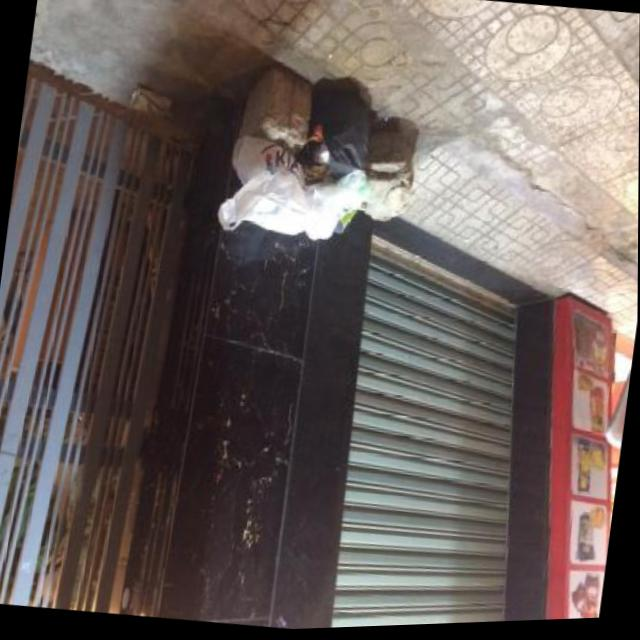cardboard: (334, 207, 358, 235)
plastic: (219, 131, 314, 239), (303, 84, 376, 179), (300, 163, 370, 249)
